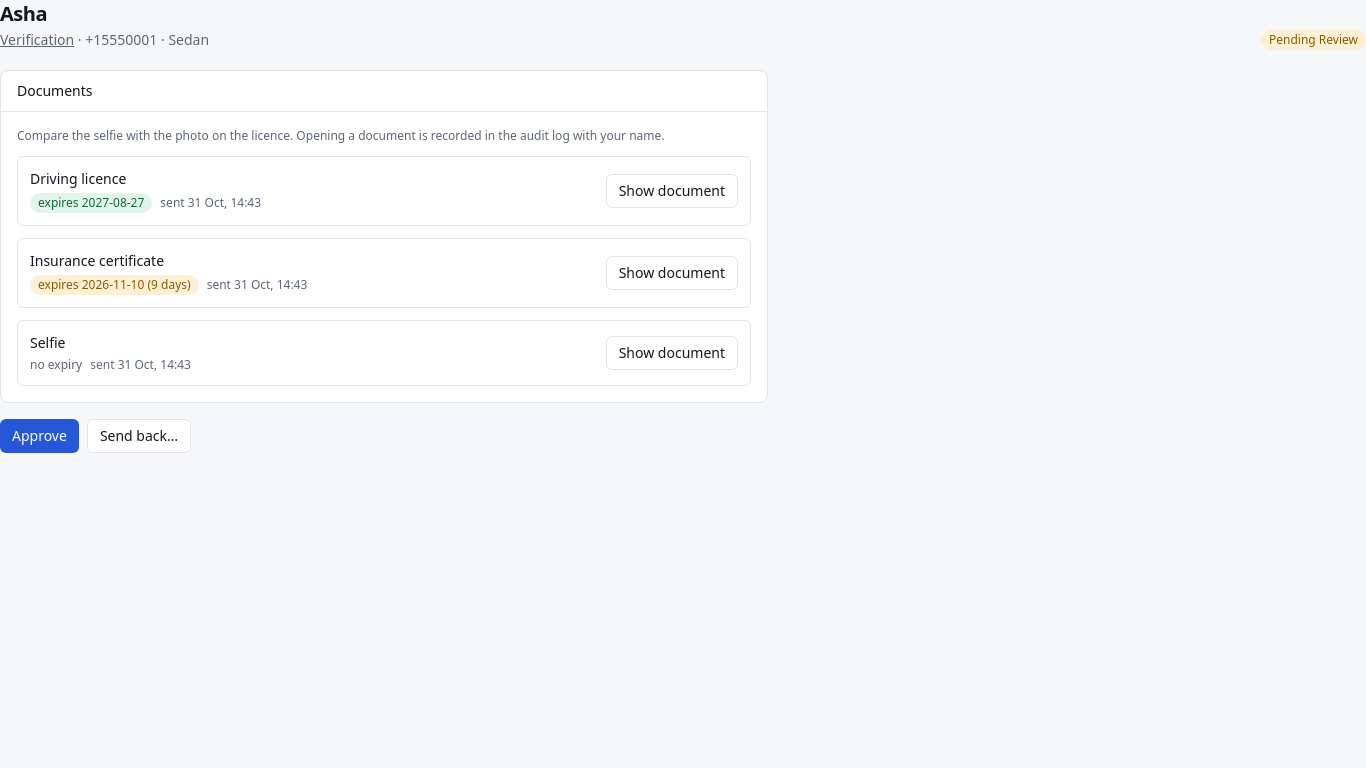
Scenario: reviewing a rider › shows the API's reason when a decision is refused
Click the button "Approve" at (39,436), box [0,419,79,453]
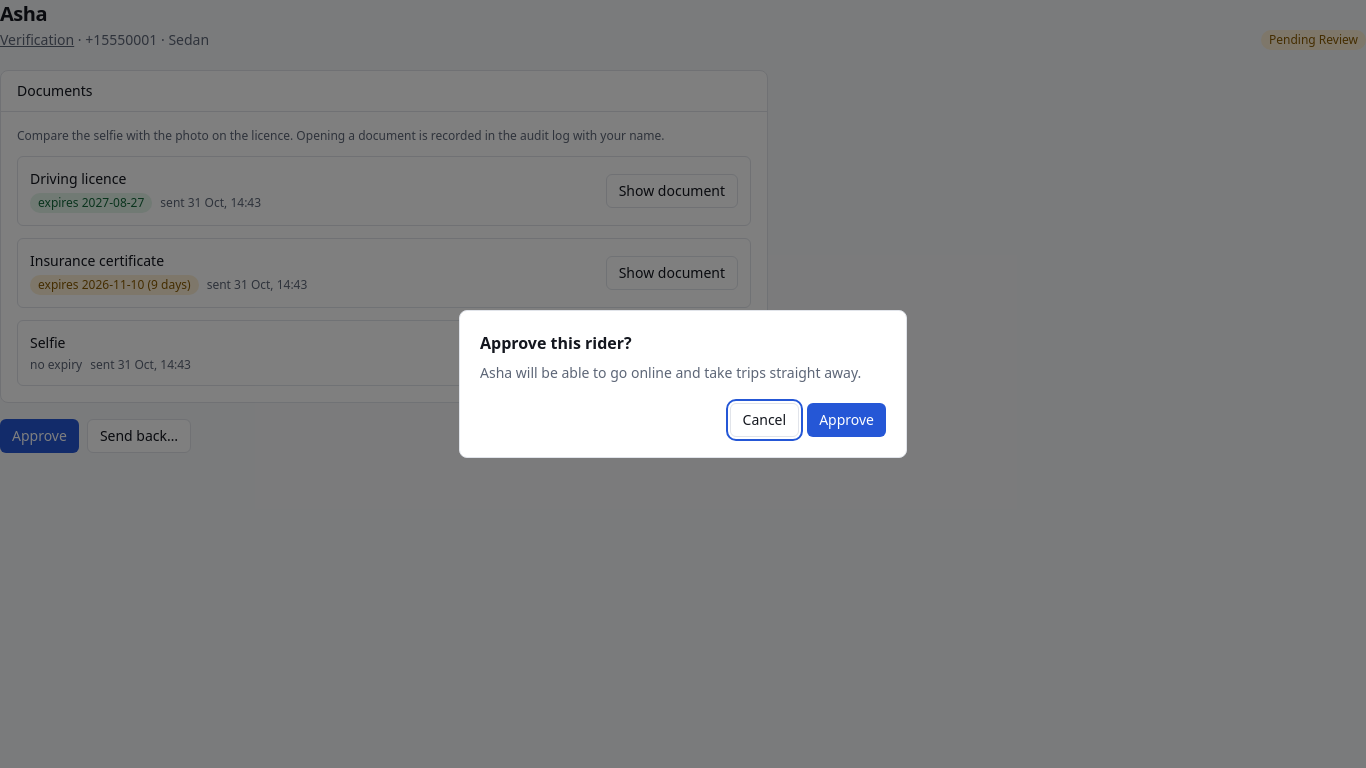
Click the button "Approve" at (847,420), box [807,403,886,437]
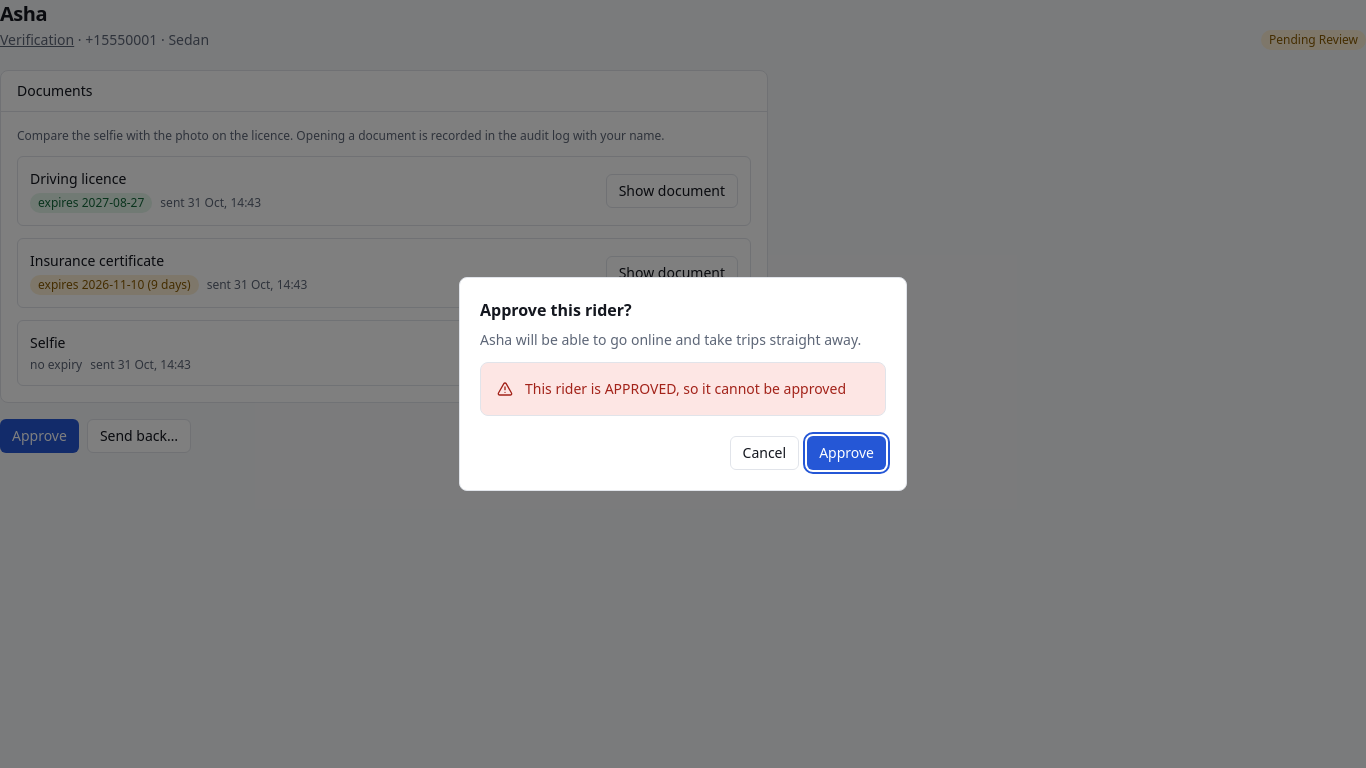
Expected: the text "This rider is APPROVED, so it cannot be approved" is shown, [525,379,869,399]
